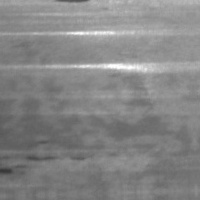inclusion: (1, 153, 56, 174)
scratches: (21, 56, 185, 78), (6, 24, 152, 43)
